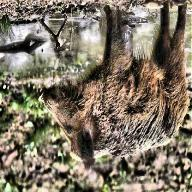boar: (26, 3, 187, 177)
